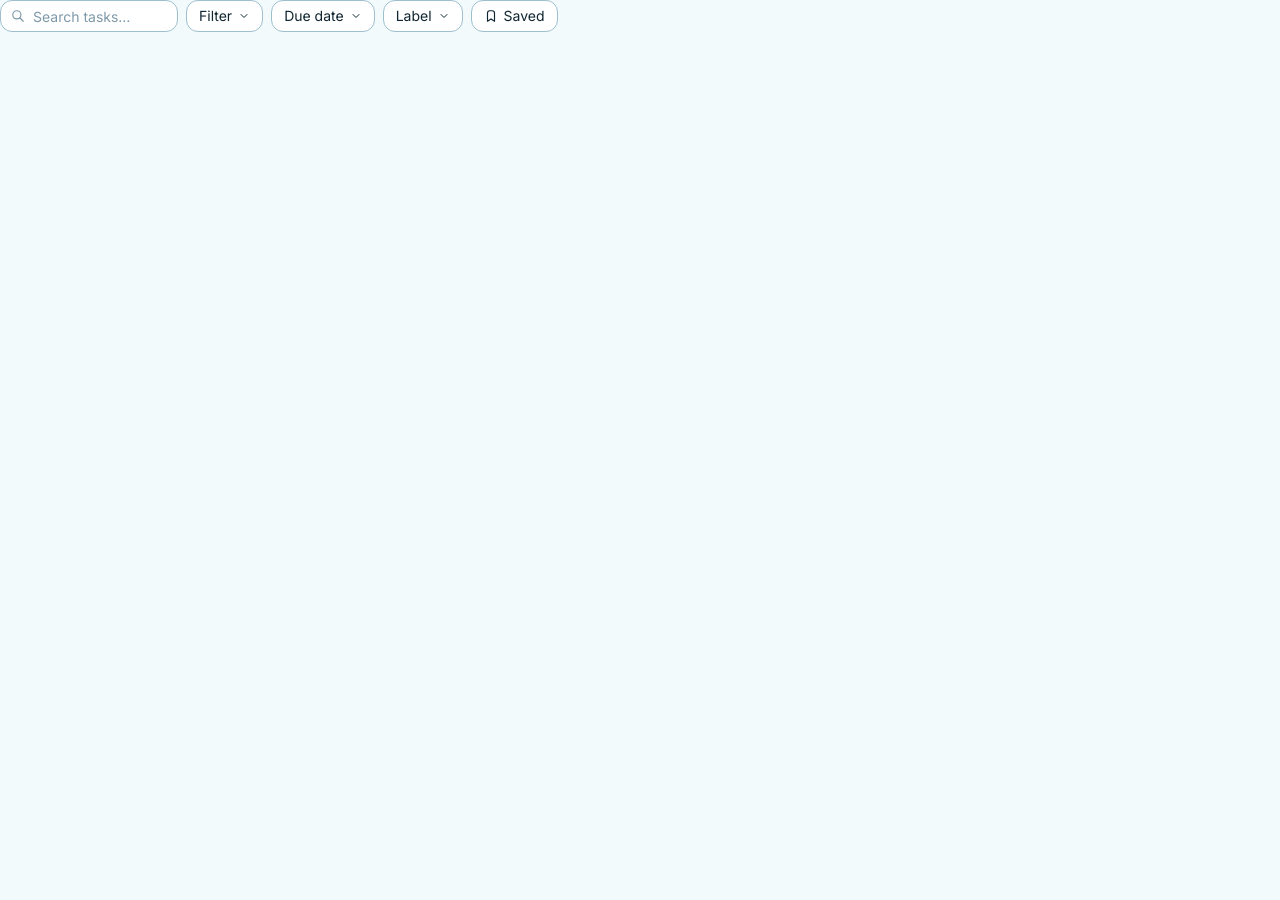
Test: FilterBar › shows empty state message when no saved filters and no active filters
What coordinates should you click on to do the following:
click the button with aria-label "saved filters"
I would click on:
 (514, 16)
Its box is [471,0,558,32].
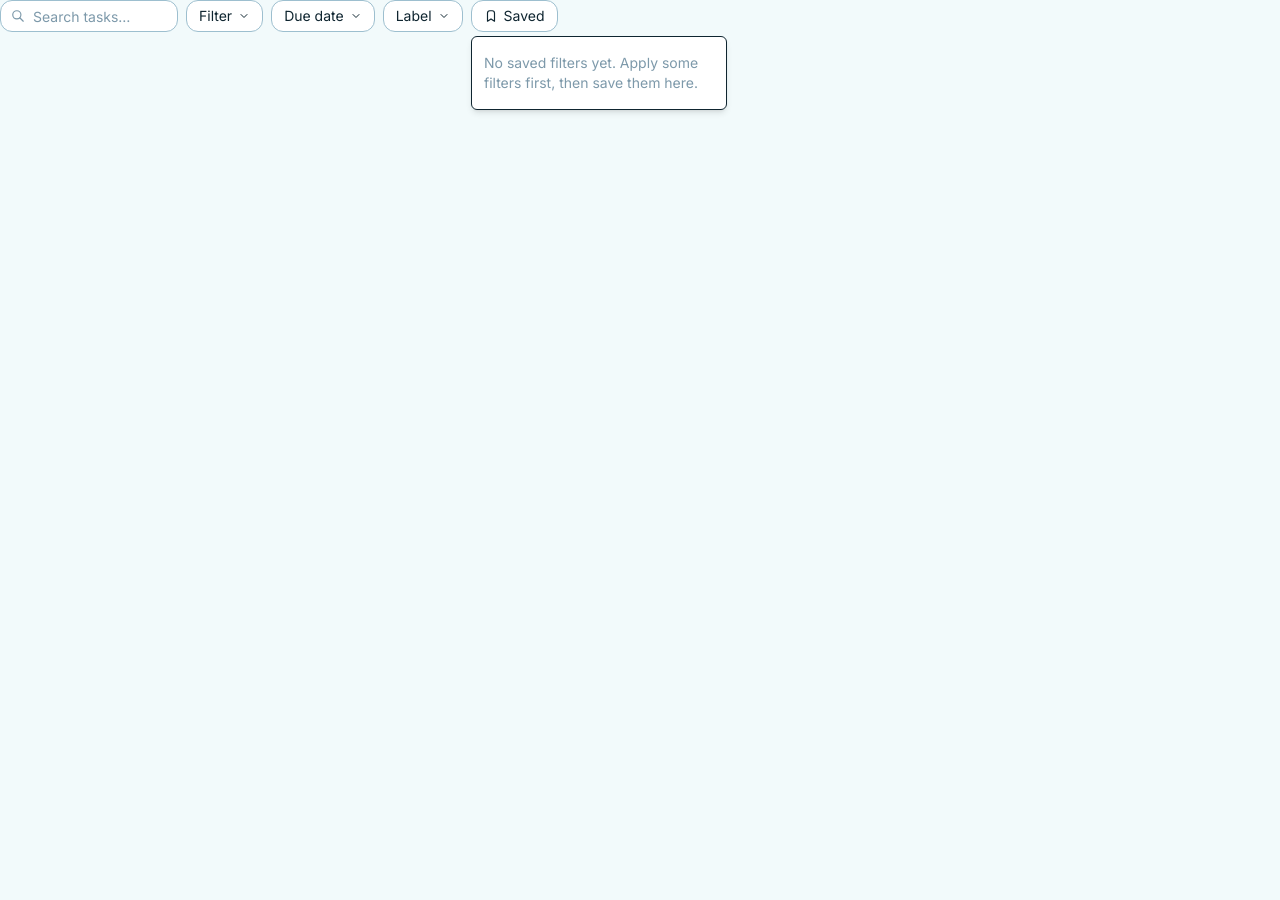
Now the text "No saved filters yet" is shown, box [484,54,698,91]
